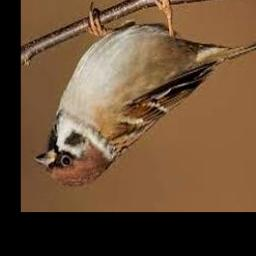Sparrow: (34, 0, 256, 187)
